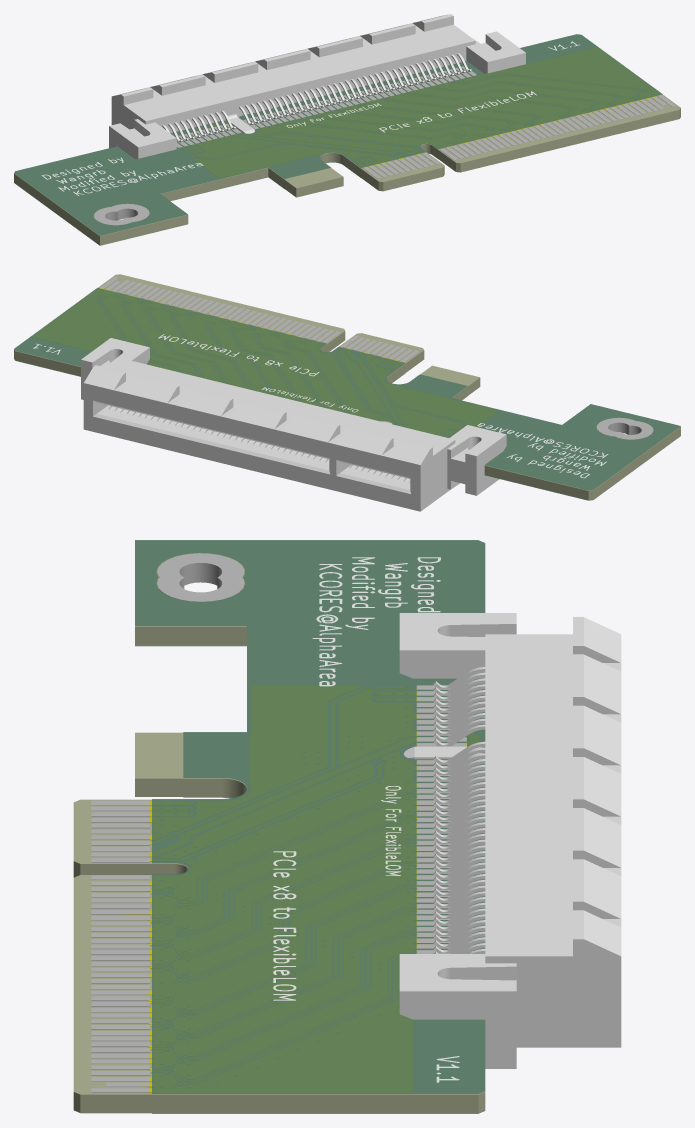
The model's file is board.glb.
3 views of the same model, one above another, from view 1: azimuth 30°, elevation 25°; view 2: azimuth 150°, elevation 25°; view 3: azimuth 270°, elevation 25° (orthographic). The views are drawn at different scales.
Visible parts, largest first — view 1: board_soldermask, 10025026-X0XX2C, board_PCB, board_copper, board_pad, board_silkscreen; view 2: board_soldermask, 10025026-X0XX2C, board_copper, board_PCB, board_pad, board_silkscreen; view 3: board_soldermask, 10025026-X0XX2C, board_copper, board_PCB, board_pad, board_silkscreen.
Boxes of the visible parts, left/top/right/bottom form: board_soldermask: left=14, top=34, right=662, bottom=235; 10025026-X0XX2C: left=109, top=14, right=525, bottom=158; board_PCB: left=14, top=35, right=680, bottom=245; board_copper: left=178, top=47, right=661, bottom=177; board_pad: left=94, top=66, right=676, bottom=225; board_silkscreen: left=41, top=41, right=579, bottom=195; board_soldermask: left=14, top=288, right=680, bottom=490; 10025026-X0XX2C: left=81, top=338, right=506, bottom=511; board_copper: left=33, top=286, right=497, bottom=437; board_PCB: left=14, top=274, right=680, bottom=500; board_pad: left=100, top=277, right=652, bottom=439; board_silkscreen: left=33, top=334, right=608, bottom=478; board_soldermask: left=135, top=540, right=485, bottom=1093; 10025026-X0XX2C: left=399, top=613, right=621, bottom=1068; board_copper: left=120, top=686, right=478, bottom=1092; board_PCB: left=73, top=541, right=485, bottom=1113; board_pad: left=91, top=553, right=466, bottom=1092; board_silkscreen: left=273, top=557, right=459, bottom=1082.
Bounding box in the file's own units: 0.0963 × 0.0088 × 0.0402.
